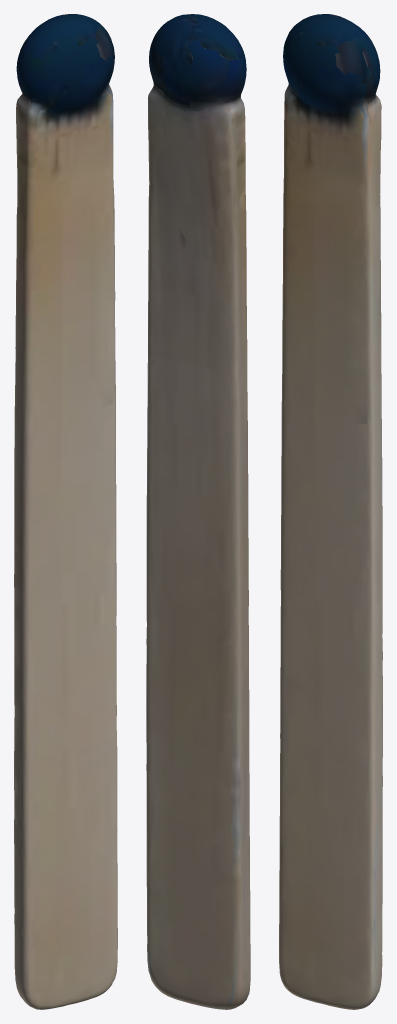
The model's file is match_paper.glb.
The picture shows the model from 3 angles, left to right: view 1: azimuth 30°, elevation 25°; view 2: azimuth 150°, elevation 25°; view 3: azimuth 330°, elevation 25°; orthographic projection.
Visible parts, largest first — view 1: match; view 2: match; view 3: match.
Boxes of the visible parts, x1,y1,x2,y2 form: match: (14, 14, 117, 1009); match: (146, 14, 250, 1009); match: (279, 14, 382, 1009).
Size of the model in its own units: 0.0112 by 0.1105 by 0.0068.
Materials: 1 (1 with a texture image).
